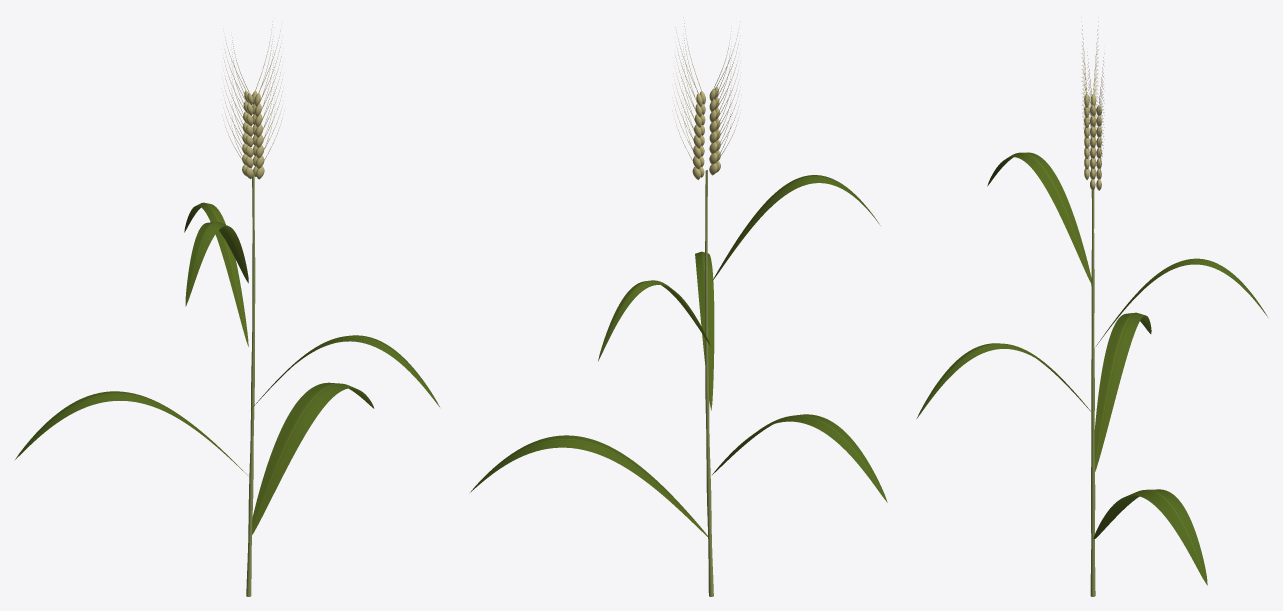
Rendered from wheat-pilot.glb.
3 views of the same model, side by side, from view 1: azimuth 30°, elevation 25°; view 2: azimuth 150°, elevation 25°; view 3: azimuth 270°, elevation 25° (orthographic).
Visible parts, largest first — view 1: Stage1 authored wheat; view 2: Stage1 authored wheat; view 3: Stage1 authored wheat.
Part boxes in pixels (x1,y1,x2,y2): Stage1 authored wheat: [15, 21, 439, 596]; Stage1 authored wheat: [470, 17, 887, 596]; Stage1 authored wheat: [916, 17, 1267, 596].
Size of the model in its own units: 1.4 by 1.98 by 1.11.
Materials: 4 (1 with a texture image).
